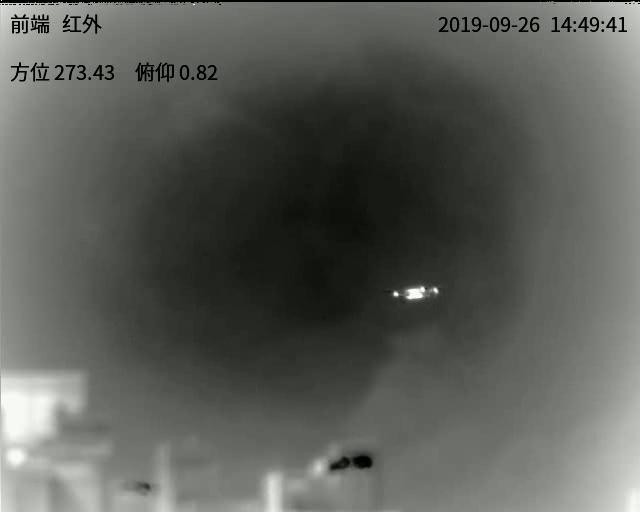DRONE: (391, 285, 440, 300)
